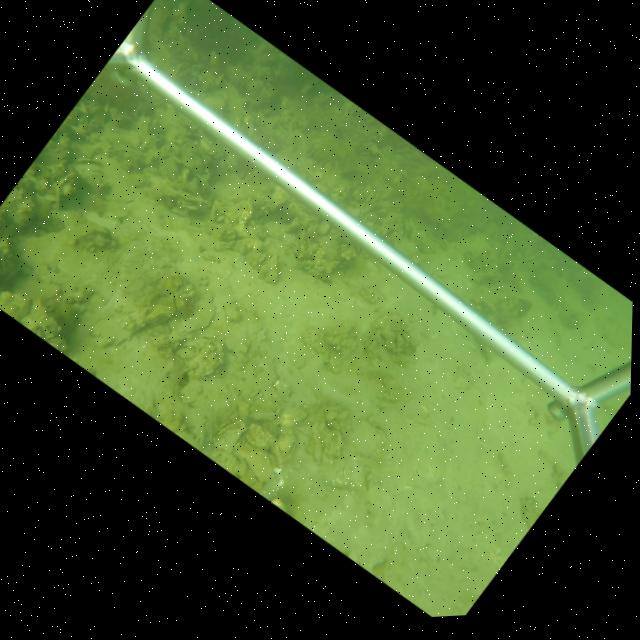Oyster-Closed: (166, 296, 217, 334), (91, 313, 139, 348), (350, 419, 387, 457), (237, 449, 276, 483), (261, 254, 279, 285), (144, 311, 168, 326), (242, 236, 264, 252), (215, 240, 235, 252), (273, 419, 280, 438)
Oyster-Indeterminate: (176, 337, 225, 379), (246, 423, 275, 449), (278, 405, 309, 429)
Oyster-Open: (211, 418, 247, 455), (276, 435, 297, 463), (190, 173, 208, 196), (74, 156, 102, 166), (169, 291, 180, 314)
